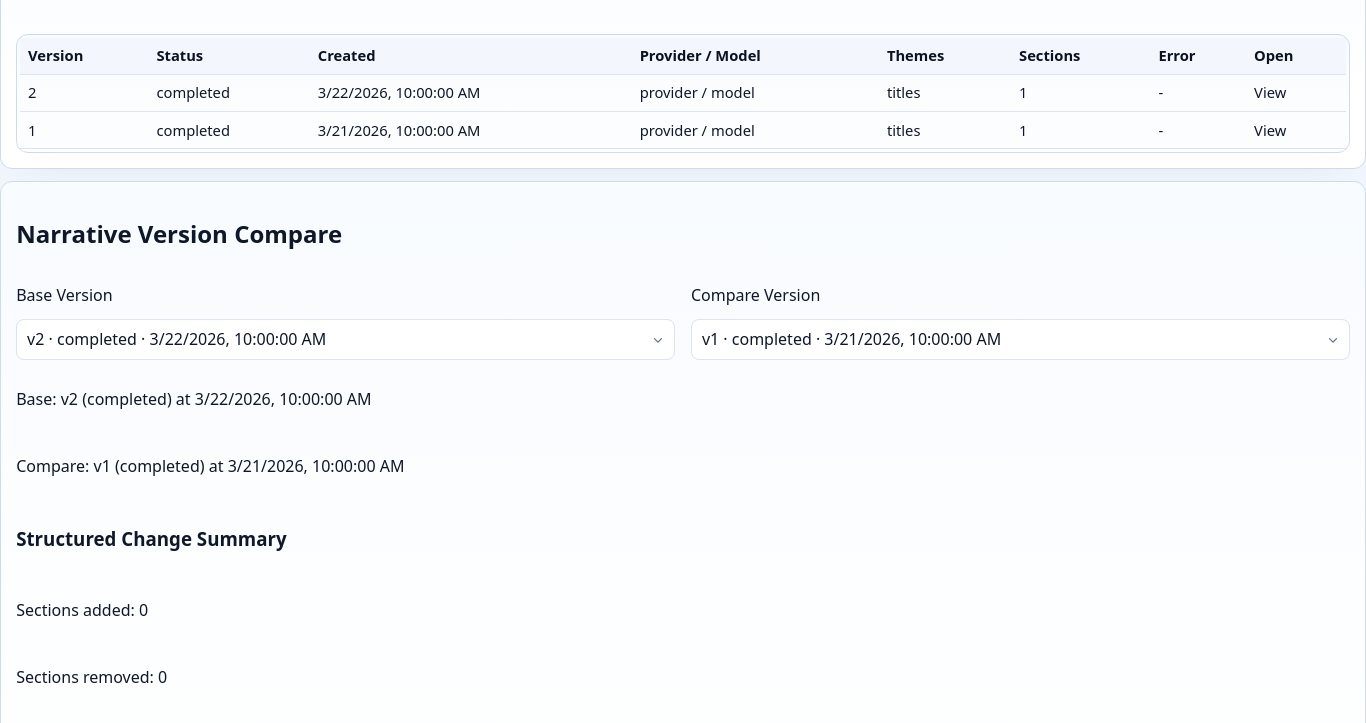
Test case: recommendation narrative history compare › shows no-change state when identical versions are selected
(page scrolled)
Expected: the heading "Narrative Version Compare" is shown, [16,217,342,250]
Select "v2 · completed · 3/22/2026, 10:00:00 AM" in the dropdown labelled "Compare Version" at (1020, 340), box [691,319,1350,360]
(page scrolled)
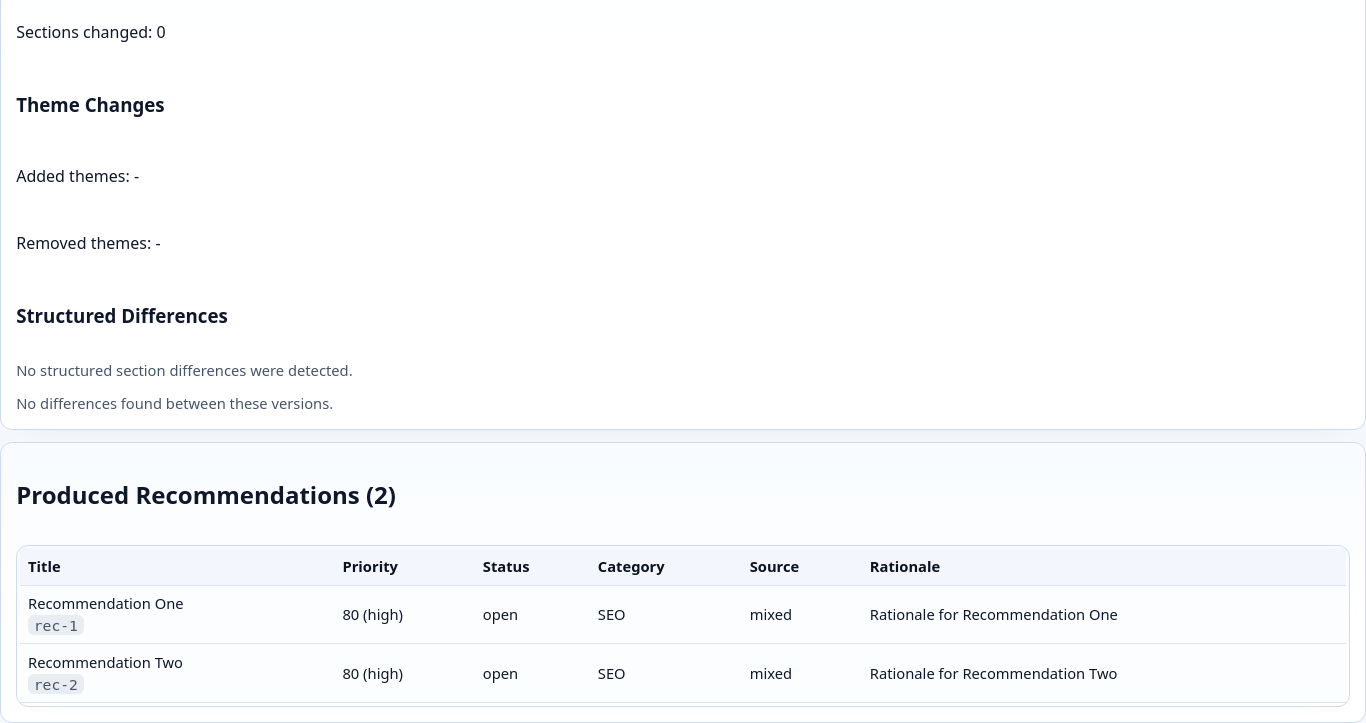
Expected: the text "No differences found between these versions." is shown, [16,393,333,413]
